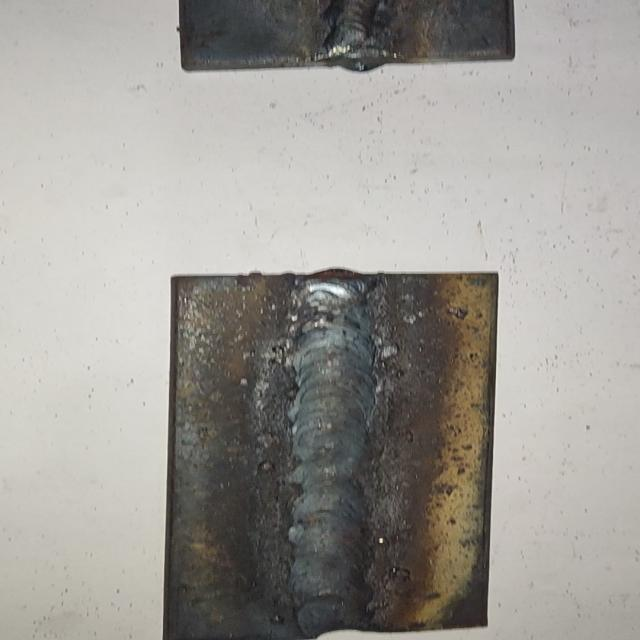Welding Line: (300, 278, 378, 630), (322, 0, 382, 60)
Workpiece: (159, 268, 507, 640), (173, 0, 526, 76)
